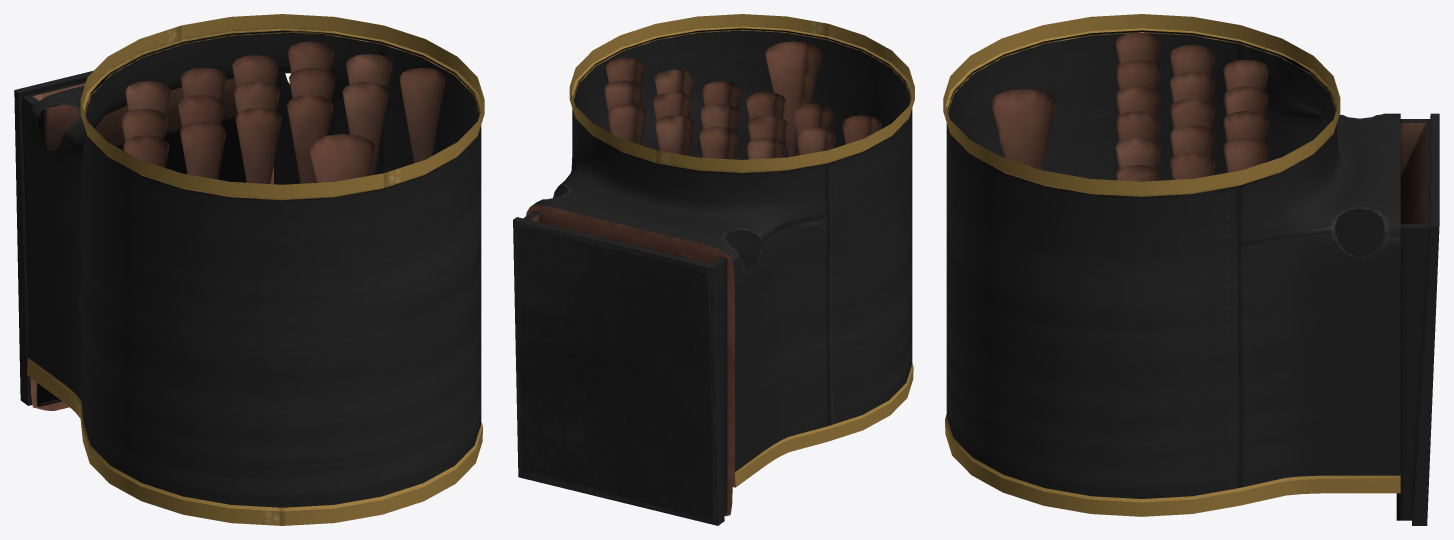
Rendered from 1.25m_Firebox1_Sides.obj.
3 renders of one model, left to right at view 1: azimuth 30°, elevation 25°; view 2: azimuth 150°, elevation 25°; view 3: azimuth 270°, elevation 25°, orthographic. The views are drawn at different scales.
Visible parts, largest first — view 1: Firebox_Vessel_Cut; view 2: Firebox_Vessel_Cut; view 3: Firebox_Vessel_Cut.
Part boxes in pixels (left/top/right/bottom): Firebox_Vessel_Cut: left=14, top=14, right=484, bottom=525; Firebox_Vessel_Cut: left=513, top=14, right=914, bottom=525; Firebox_Vessel_Cut: left=943, top=14, right=1439, bottom=525.
Bounding box in the file's own units: 1.25 × 1.31 × 1.56.
